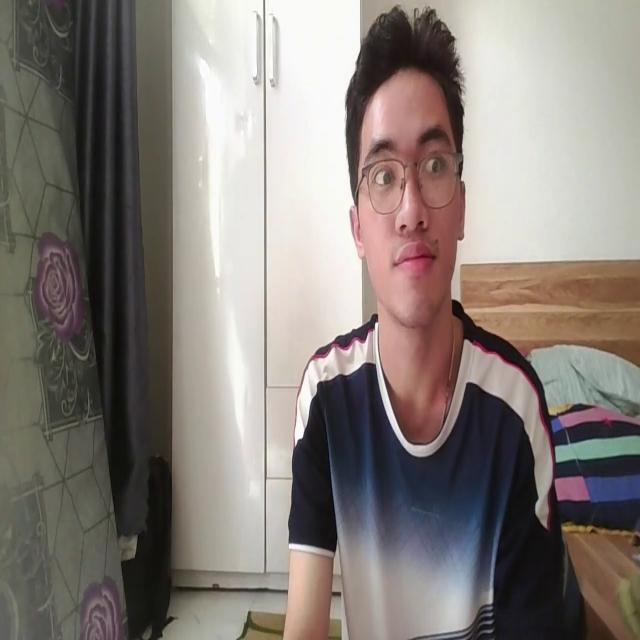student: (273, 2, 567, 640)
